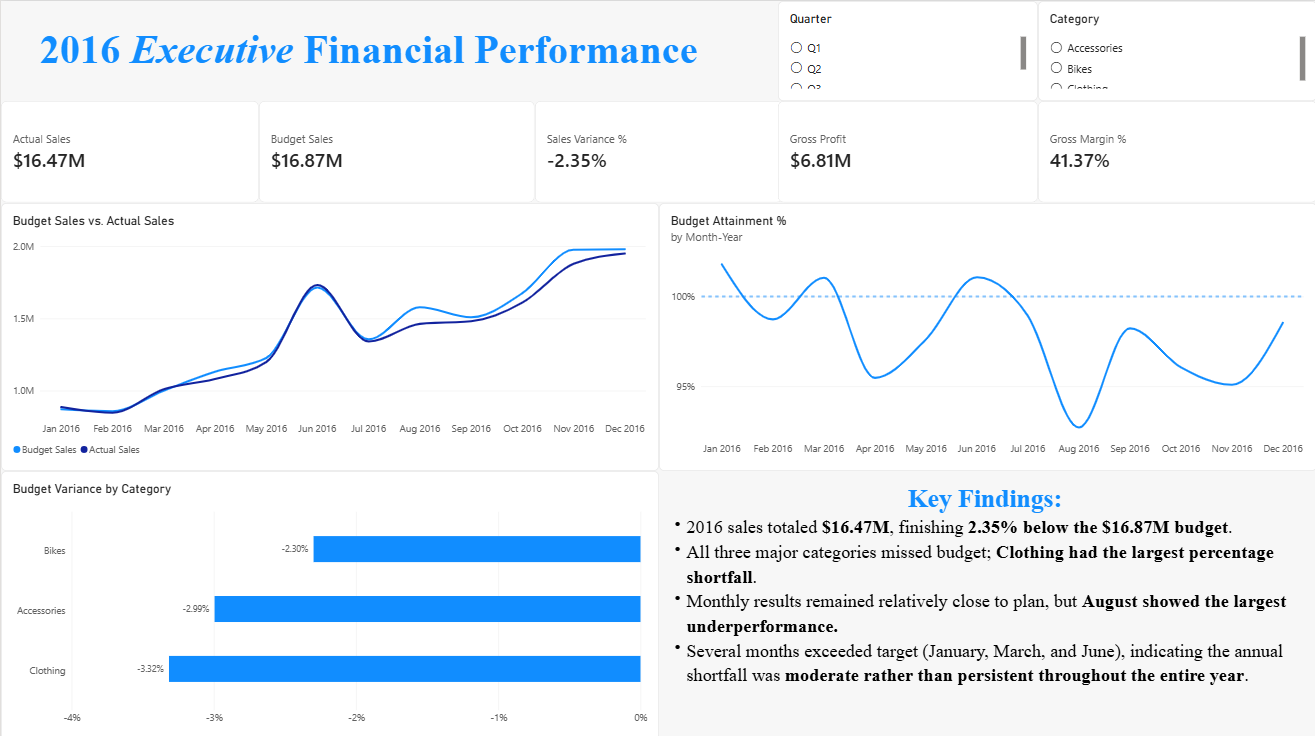

This screenshot's page, from the dashboard's own definition file:
{"tool":"powerbi","page":{"name":"Page 1","canvas":[1920,1080],"ordinal":0},"visuals":[{"type":"cardVisual","fields":{"Data":["FactSales.Actual Sales"]},"box":[0,145.9,376.4,148.8],"z":0},{"type":"cardVisual","fields":{"Data":["FactBudget.Budget Sales"]},"box":[376.4,145.9,402.7,148.8],"z":1000},{"type":"cardVisual","fields":{"Data":["FactSales.Sales Variance %"]},"box":[779.1,145.9,361.8,148.8],"z":2000},{"type":"cardVisual","fields":{"Data":["FactSales.Gross Profit"]},"box":[1133.6,145.9,379.3,148.8],"z":3000},{"type":"cardVisual","fields":{"Data":["FactSales.Gross Margin %"]},"box":[1512.9,145.9,407.1,148.8],"z":4000},{"type":"lineChart","fields":{"Category":["DimDate.Month-Year"],"Y":["FactSales.Budget Attainment %"]},"box":[960,294.7,960,391],"z":5000},{"type":"lineChart","title":"Budget Sales vs. Actual Sales","fields":{"Category":["DimDate.Month-Year"],"Y":["FactBudget.Budget Sales","FactSales.Actual Sales"]},"box":[0,294.7,960,391],"z":6000},{"type":"clusteredBarChart","title":"Budget Variance by Category","fields":{"Category":["DimProduct.Category"],"Y":["FactSales.Sales Variance %"]},"box":[0,685.7,960,392.5],"z":7000},{"type":"textbox","box":[960,685.7,960,393.9],"z":8000},{"type":"textbox","box":[0,37.9,1070.9,84.6],"z":9000},{"type":"listSlicer","fields":{"Values":["DimProduct.Category"]},"box":[1512.9,0,407.1,145.9],"z":10000},{"type":"listSlicer","fields":{"Values":["DimDate.Quarter"]},"box":[1133.6,0,379.3,145.9],"z":11000}]}

Visuals, with their boxes in screenshot pixels (x1, y1, x2, y2), scaled from the page's 1920x1080 canvas onto the 1315x736 screenshot:
cardVisual - FactSales.Actual Sales: <region>0, 99, 258, 201</region>
cardVisual - FactBudget.Budget Sales: <region>258, 99, 534, 201</region>
cardVisual - FactSales.Sales Variance %: <region>534, 99, 781, 201</region>
cardVisual - FactSales.Gross Profit: <region>776, 99, 1036, 201</region>
cardVisual - FactSales.Gross Margin %: <region>1036, 99, 1314, 201</region>
lineChart - DimDate.Month-Year x FactSales.Budget Attainment %: <region>658, 201, 1314, 467</region>
"Budget Sales vs. Actual Sales" lineChart: <region>0, 201, 658, 467</region>
"Budget Variance by Category" clusteredBarChart: <region>0, 467, 658, 735</region>
textbox: <region>658, 467, 1314, 735</region>
textbox: <region>0, 26, 733, 83</region>
listSlicer - DimProduct.Category: <region>1036, 0, 1314, 99</region>
listSlicer - DimDate.Quarter: <region>776, 0, 1036, 99</region>
